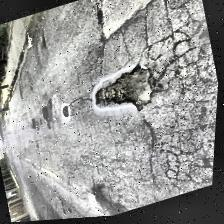pothole: (89, 61, 161, 127), (60, 103, 74, 120)
